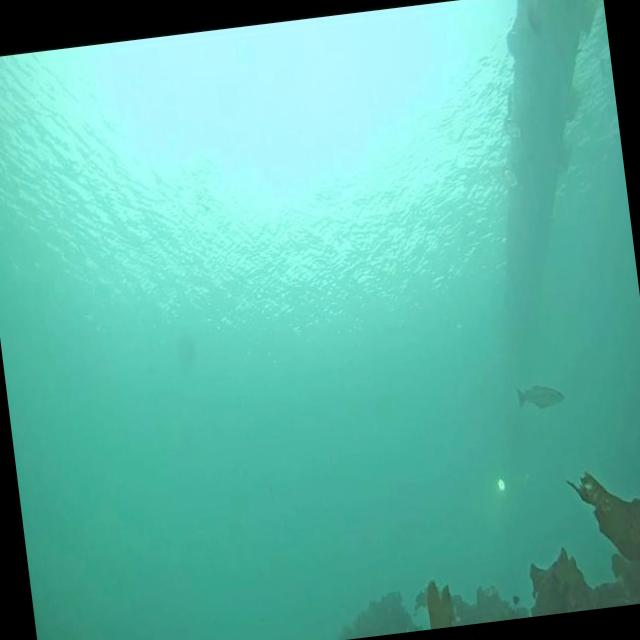fish: (516, 382, 566, 411)
